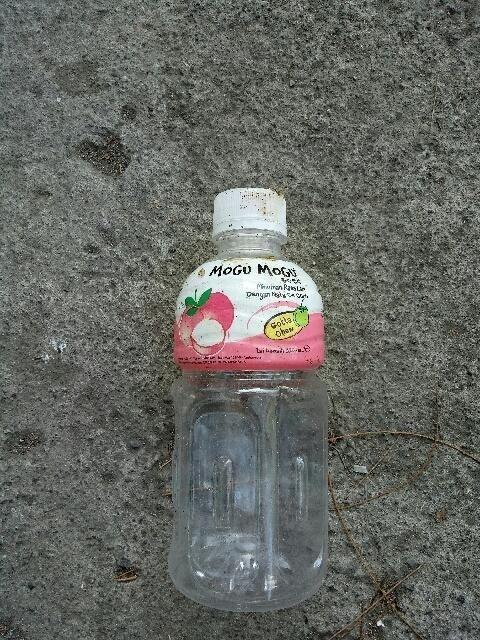bottle-plastic: (172, 186, 329, 616)
